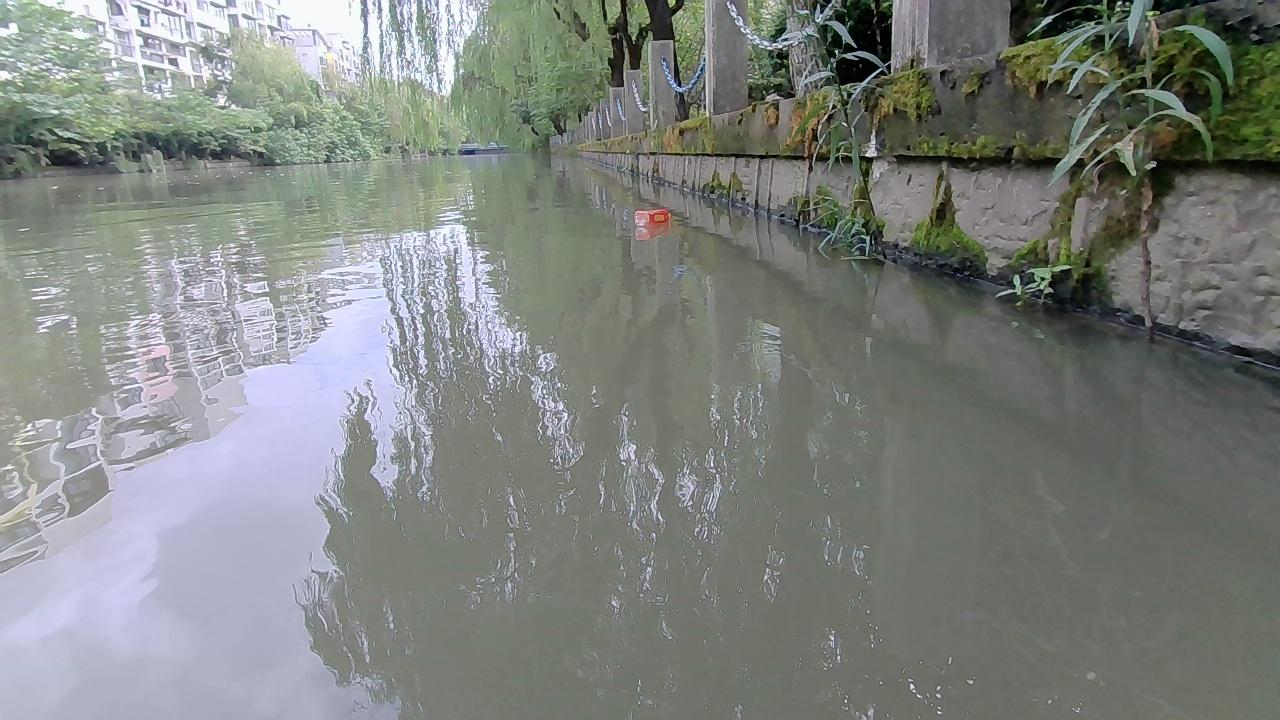bottle: (633, 208, 670, 225)
